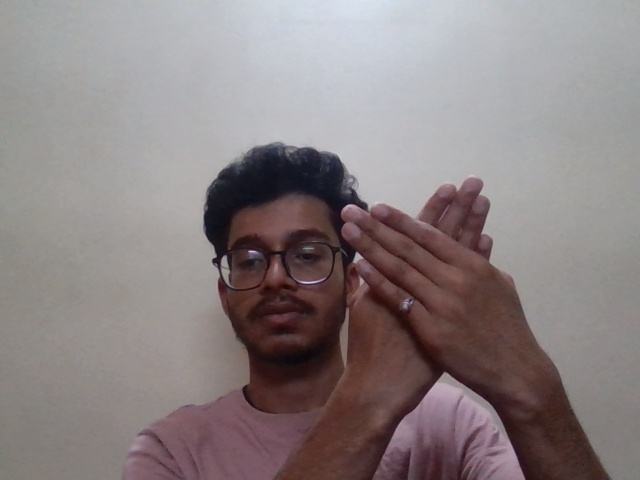what: (319, 159, 564, 412)
